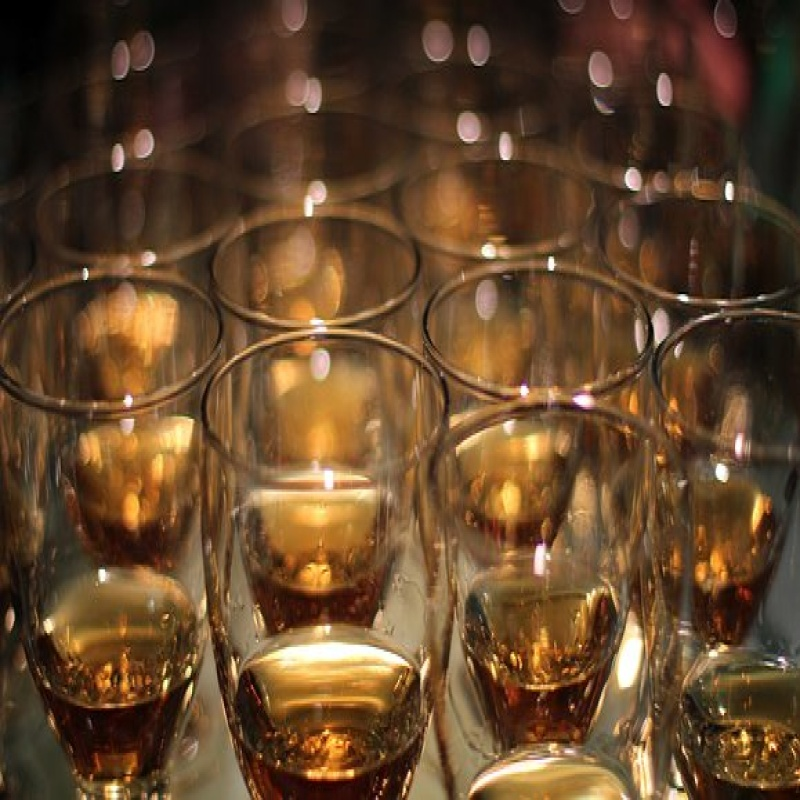whiskey: (216, 324, 445, 800), (430, 402, 695, 800), (18, 275, 209, 800)
